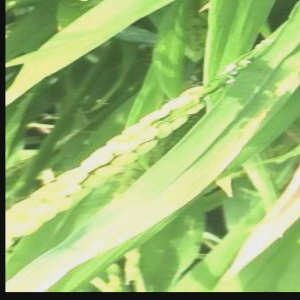Leaf_Blast: (230, 63, 300, 128)
